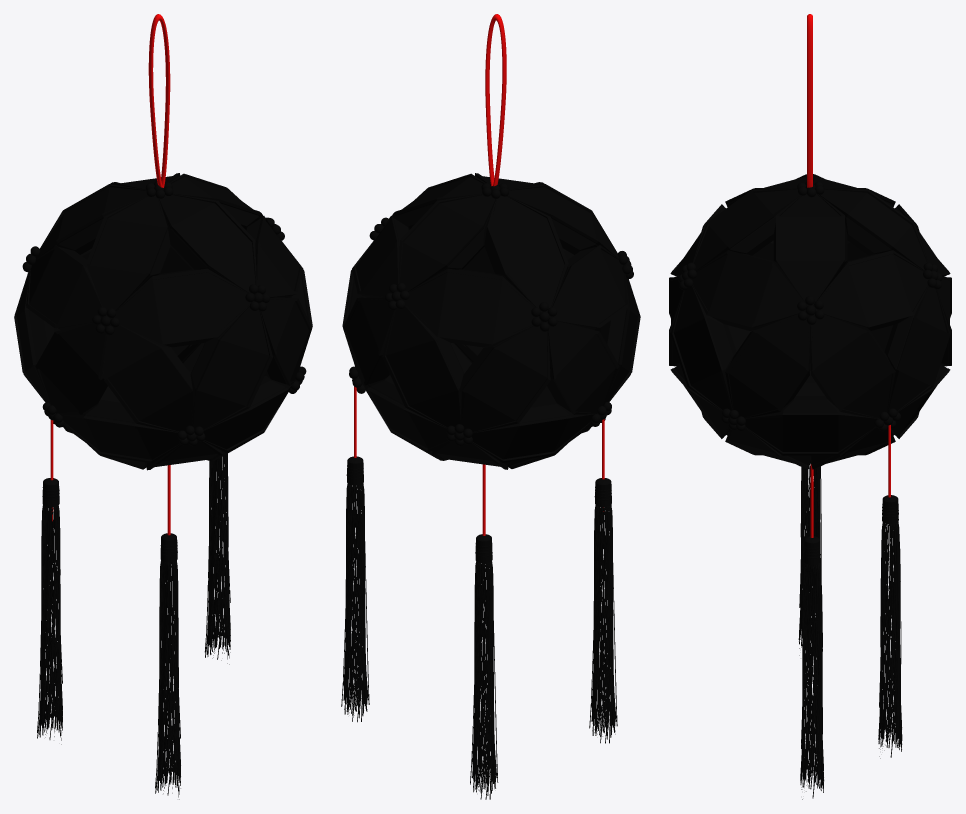
The model's file is xiuqiu.FBX.
The picture shows the model from 3 angles, left to right: view 1: azimuth 30°, elevation 25°; view 2: azimuth 150°, elevation 25°; view 3: azimuth 270°, elevation 25°; orthographic projection.
Parts seen in each view (by area): view 1: Obj3d66-599603-1-408, Obj3d66-599603-87-673, Obj3d66-599603-88-878, Obj3d66-599603-89-687, Obj3d66-599603-86-112; view 2: Obj3d66-599603-1-408, Obj3d66-599603-88-878, Obj3d66-599603-89-687, Obj3d66-599603-87-673, Obj3d66-599603-86-112; view 3: Obj3d66-599603-1-408, Obj3d66-599603-89-687, Obj3d66-599603-88-878, Obj3d66-599603-87-673, Obj3d66-599603-86-112.
Boxes of the visible parts, x1,y1,x2,y2 form: Obj3d66-599603-1-408: (14, 173, 312, 470); Obj3d66-599603-87-673: (37, 478, 62, 744); Obj3d66-599603-88-878: (155, 533, 180, 799); Obj3d66-599603-89-687: (204, 453, 230, 664); Obj3d66-599603-86-112: (50, 14, 170, 535); Obj3d66-599603-1-408: (342, 173, 640, 469); Obj3d66-599603-88-878: (470, 534, 498, 799); Obj3d66-599603-89-687: (341, 456, 369, 722); Obj3d66-599603-87-673: (589, 478, 617, 743); Obj3d66-599603-86-112: (354, 14, 604, 535); Obj3d66-599603-1-408: (669, 174, 951, 469); Obj3d66-599603-89-687: (878, 495, 902, 758); Obj3d66-599603-88-878: (800, 536, 824, 799); Obj3d66-599603-87-673: (798, 463, 822, 655); Obj3d66-599603-86-112: (807, 14, 890, 537).
Bounding box in the file's own units: 105 × 307 × 101.
